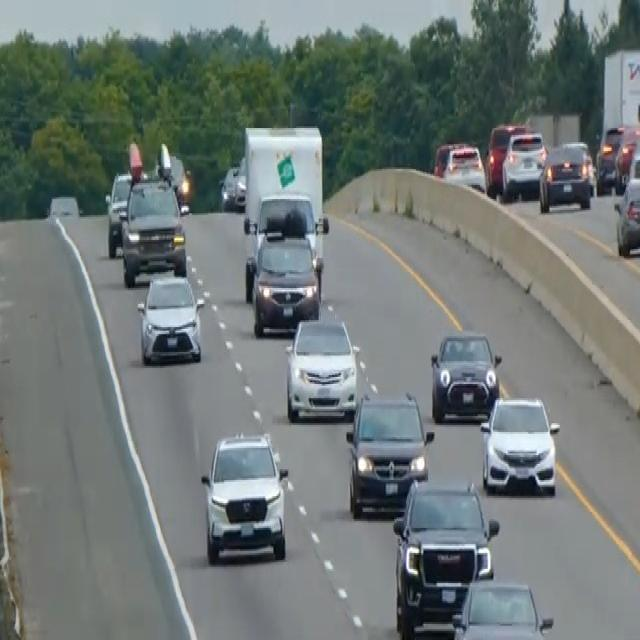car: (391, 474, 499, 636), (344, 390, 433, 518), (479, 393, 560, 496), (284, 315, 357, 423), (250, 226, 321, 336), (119, 174, 187, 286), (429, 327, 501, 421), (135, 270, 204, 366), (450, 576, 554, 638), (538, 139, 593, 213), (501, 128, 548, 201), (484, 119, 526, 196), (595, 121, 638, 192), (433, 139, 486, 192), (104, 169, 134, 258), (613, 174, 639, 256), (613, 132, 639, 192), (167, 153, 191, 213), (46, 192, 80, 220), (220, 163, 239, 210), (233, 153, 247, 210)
jeep: (198, 425, 290, 565)
truck: (241, 121, 329, 322)
